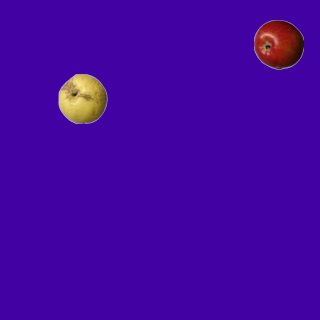Apple Braeburn: (253, 19, 303, 69)
Apple Golden 1: (57, 73, 107, 123)
